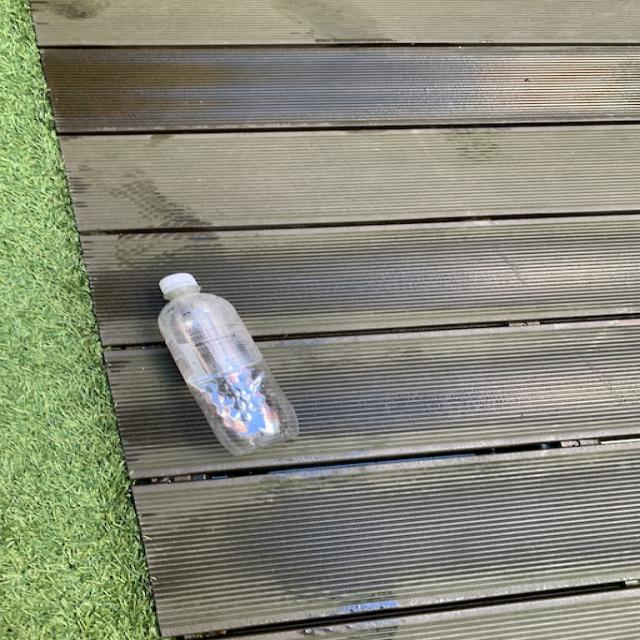Waste: (158, 274, 298, 456)
